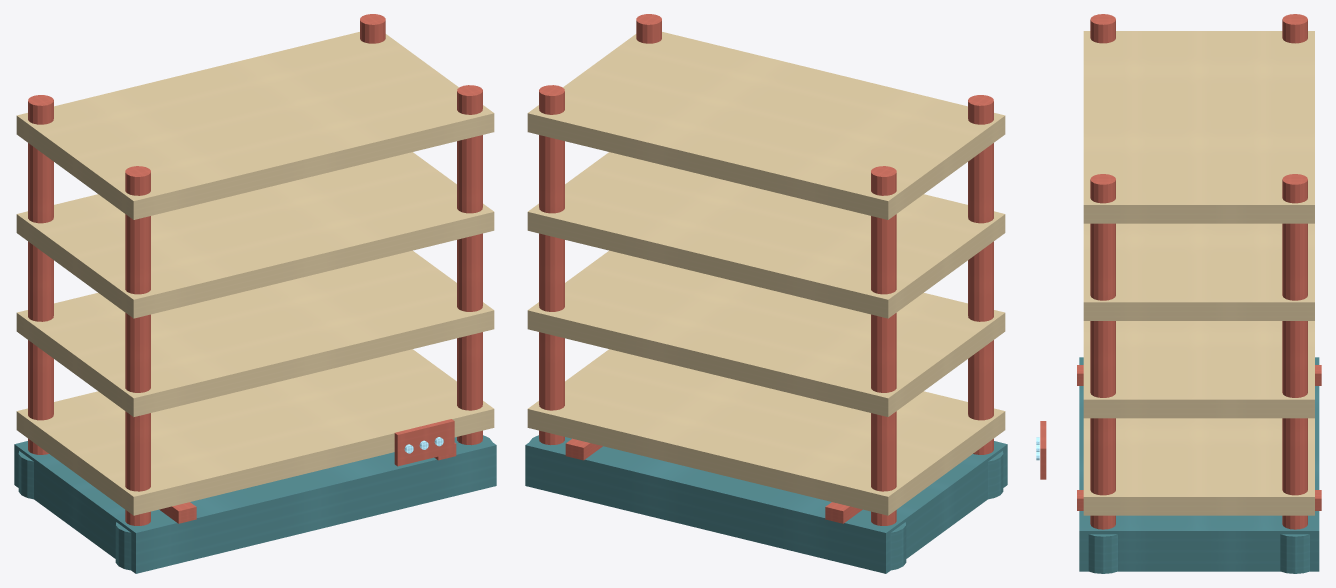
File: atlas100-s076-a06.glb
3 views of the same model, side by side, from view 1: azimuth 30°, elevation 25°; view 2: azimuth 150°, elevation 25°; view 3: azimuth 270°, elevation 25° (orthographic).
Parts seen in each view (by area): view 1: atlas100-s076-a06:part-014, atlas100-s076-a06:part-013, atlas100-s076-a06:part-012, atlas100-s076-a06:part-011, atlas100-s076-a06:part-000, atlas100-s076-a06:part-005, atlas100-s076-a06:part-009, atlas100-s076-a06:part-003, atlas100-s076-a06:part-015, atlas100-s076-a06:part-007, atlas100-s076-a06:part-006, atlas100-s076-a06:part-004; view 2: atlas100-s076-a06:part-014, atlas100-s076-a06:part-011, atlas100-s076-a06:part-013, atlas100-s076-a06:part-012, atlas100-s076-a06:part-000, atlas100-s076-a06:part-003, atlas100-s076-a06:part-007, atlas100-s076-a06:part-005, atlas100-s076-a06:part-009, atlas100-s076-a06:part-004, atlas100-s076-a06:part-006; view 3: atlas100-s076-a06:part-014, atlas100-s076-a06:part-012, atlas100-s076-a06:part-011, atlas100-s076-a06:part-013, atlas100-s076-a06:part-000, atlas100-s076-a06:part-007, atlas100-s076-a06:part-009, atlas100-s076-a06:part-008, atlas100-s076-a06:part-010, atlas100-s076-a06:part-005, atlas100-s076-a06:part-003, atlas100-s076-a06:part-015.
Part boxes in pixels (bbox=[...]): atlas100-s076-a06:part-014: bbox=[16, 32, 494, 219]; atlas100-s076-a06:part-013: bbox=[16, 152, 494, 318]; atlas100-s076-a06:part-012: bbox=[16, 250, 494, 416]; atlas100-s076-a06:part-011: bbox=[16, 349, 494, 515]; atlas100-s076-a06:part-000: bbox=[14, 435, 496, 573]; atlas100-s076-a06:part-005: bbox=[125, 166, 150, 525]; atlas100-s076-a06:part-009: bbox=[457, 85, 482, 445]; atlas100-s076-a06:part-003: bbox=[28, 95, 53, 454]; atlas100-s076-a06:part-015: bbox=[394, 419, 454, 466]; atlas100-s076-a06:part-007: bbox=[360, 14, 385, 43]; atlas100-s076-a06:part-006: bbox=[115, 522, 131, 570]; atlas100-s076-a06:part-004: bbox=[18, 451, 33, 499]; atlas100-s076-a06:part-014: bbox=[527, 32, 1005, 219]; atlas100-s076-a06:part-011: bbox=[527, 349, 1005, 515]; atlas100-s076-a06:part-013: bbox=[527, 152, 1005, 318]; atlas100-s076-a06:part-012: bbox=[527, 250, 1005, 416]; atlas100-s076-a06:part-000: bbox=[525, 435, 1007, 573]; atlas100-s076-a06:part-003: bbox=[871, 166, 896, 525]; atlas100-s076-a06:part-007: bbox=[539, 85, 564, 445]; atlas100-s076-a06:part-005: bbox=[968, 95, 993, 454]; atlas100-s076-a06:part-009: bbox=[636, 14, 661, 43]; atlas100-s076-a06:part-004: bbox=[890, 522, 906, 570]; atlas100-s076-a06:part-006: bbox=[988, 451, 1003, 499]; atlas100-s076-a06:part-014: bbox=[1083, 31, 1314, 223]; atlas100-s076-a06:part-012: bbox=[1083, 321, 1314, 418]; atlas100-s076-a06:part-011: bbox=[1083, 418, 1314, 515]; atlas100-s076-a06:part-013: bbox=[1083, 223, 1314, 320]; atlas100-s076-a06:part-000: bbox=[1079, 357, 1319, 571]; atlas100-s076-a06:part-007: bbox=[1282, 174, 1307, 529]; atlas100-s076-a06:part-009: bbox=[1090, 174, 1115, 529]; atlas100-s076-a06:part-008: bbox=[1280, 534, 1309, 573]; atlas100-s076-a06:part-010: bbox=[1088, 534, 1117, 573]; atlas100-s076-a06:part-005: bbox=[1090, 14, 1115, 43]; atlas100-s076-a06:part-003: bbox=[1282, 14, 1307, 43]; atlas100-s076-a06:part-015: bbox=[1040, 421, 1046, 479].
Bounding box in the file's own units: 2.47 × 2.48 × 1.66.
4 materials, 4 textured.
